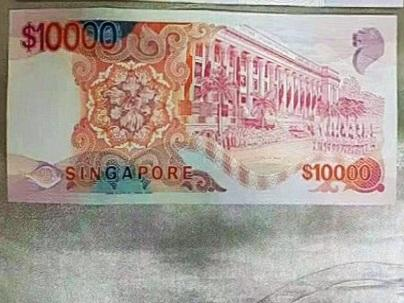10000SingaporeDollar: (13, 17, 395, 201)
